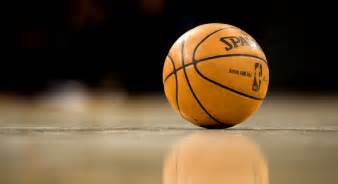basketball: (161, 21, 272, 131)
